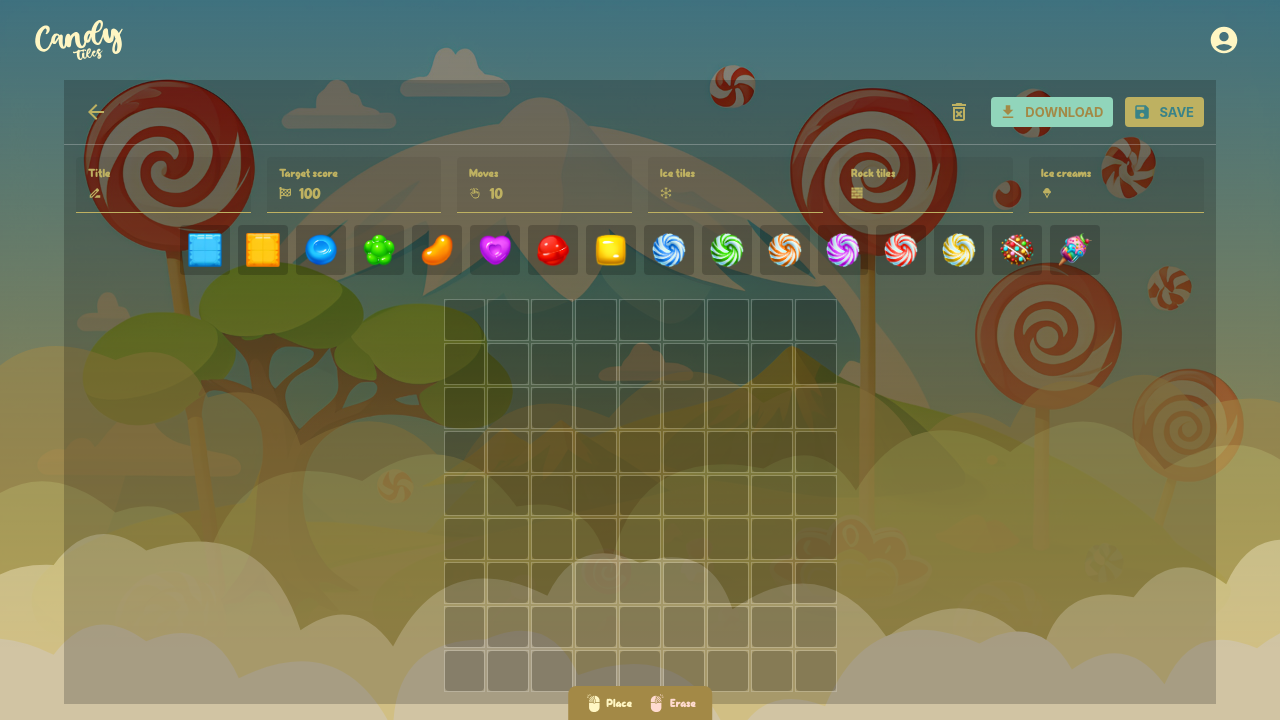
Test: Level editor page › clicking the clear editor button should open a clear level dialog
Step 1. Click the button with test id "clear-editor-button" → (959, 112), box left=939, top=92, right=979, bottom=132
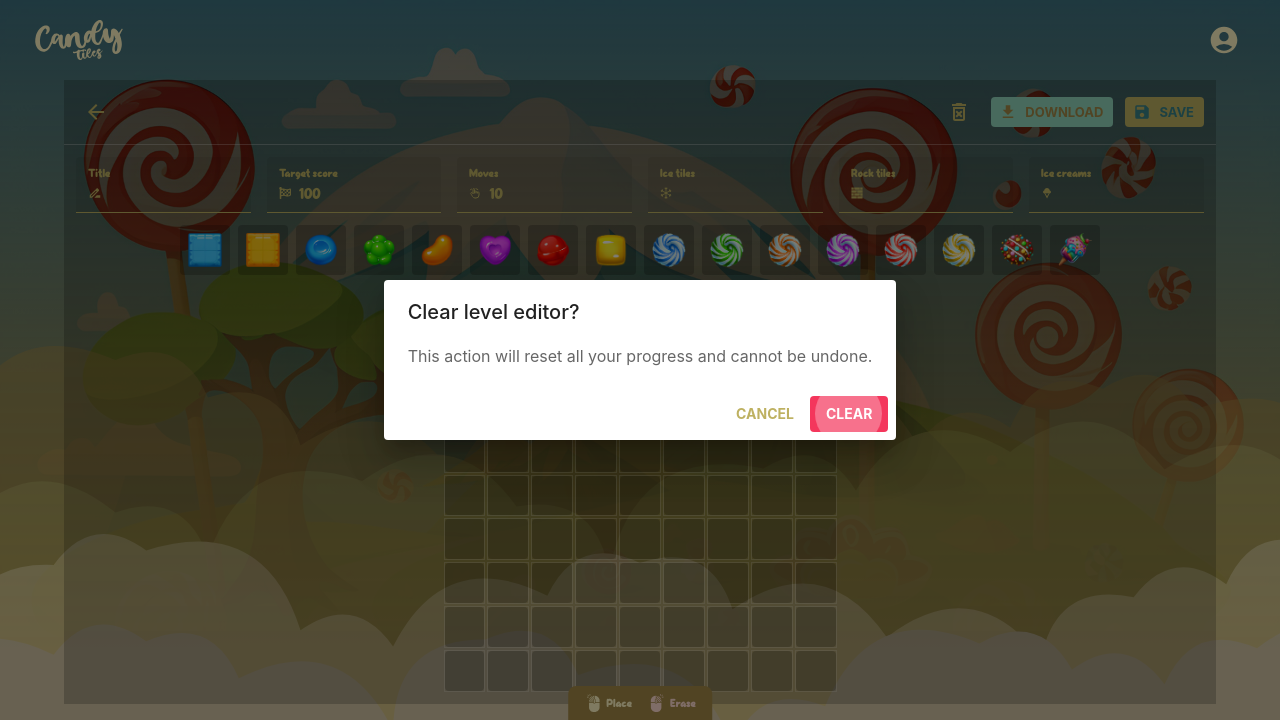
Result: the element with test id "clear-editor-dialog" is shown
